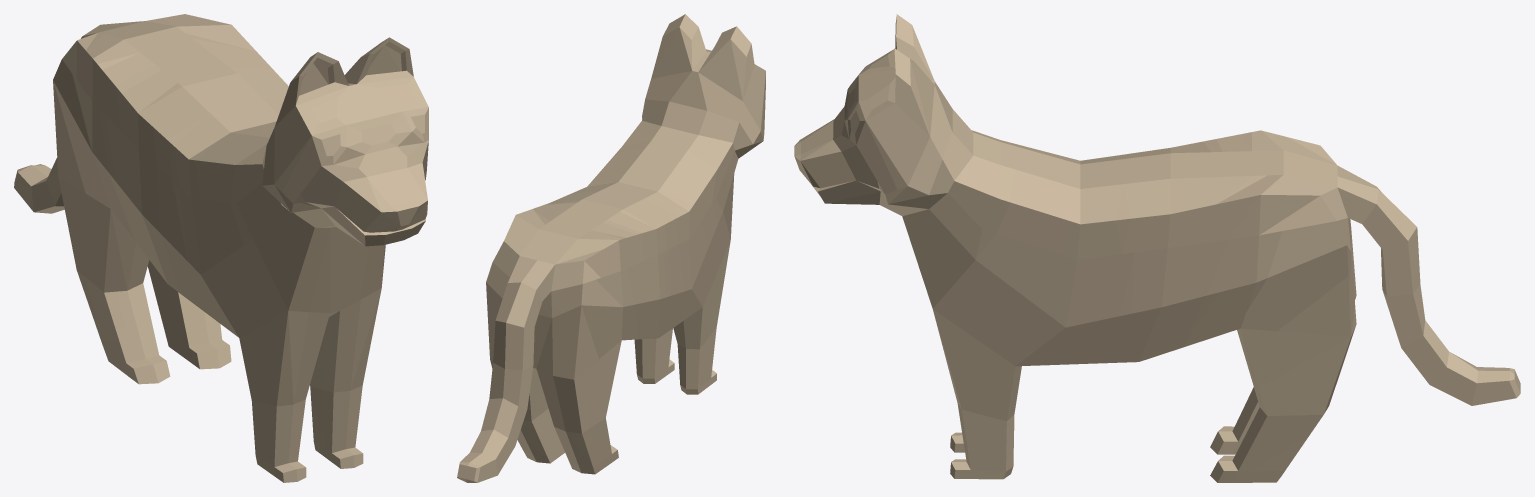
Rendered from white-tiger.glb.
3 renders of one model, left to right at view 1: azimuth 30°, elevation 25°; view 2: azimuth 150°, elevation 25°; view 3: azimuth 270°, elevation 25°, orthographic. The views are drawn at different scales.
Parts seen in each view (by area): view 1: Tiger_Lepord_01_Cube.000; view 2: Tiger_Lepord_01_Cube.000; view 3: Tiger_Lepord_01_Cube.000.
Part boxes in pixels (<box>): Tiger_Lepord_01_Cube.000: <box>14,14,428,482</box>; Tiger_Lepord_01_Cube.000: <box>457,14,765,482</box>; Tiger_Lepord_01_Cube.000: <box>794,14,1520,482</box>.
Bounding box in the file's own units: 3.44 × 9.98 × 15.26.
